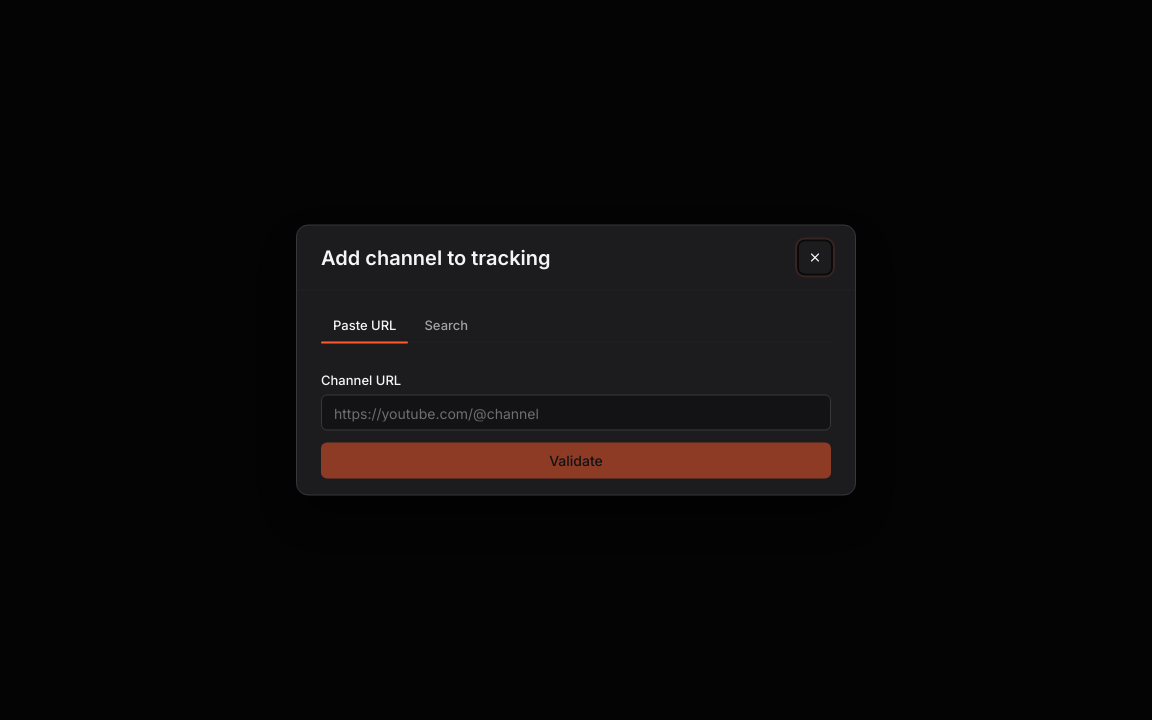
Test case: AddChannelModal › search tab: submits a query and lists results
Step 1. Click the tab "Search" → click(446, 324), box 412,306 -> 480,342
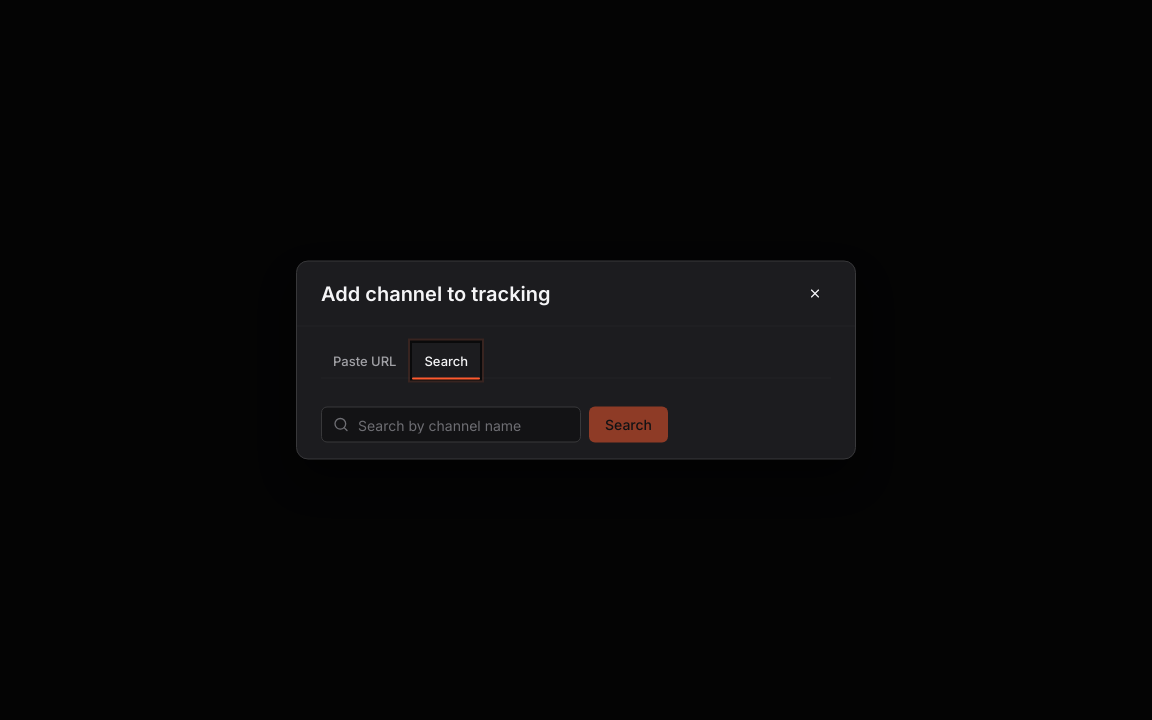
Step 2. Type "tiny" into the search field named "Search channels" → (451, 424), box 321,406 -> 581,442
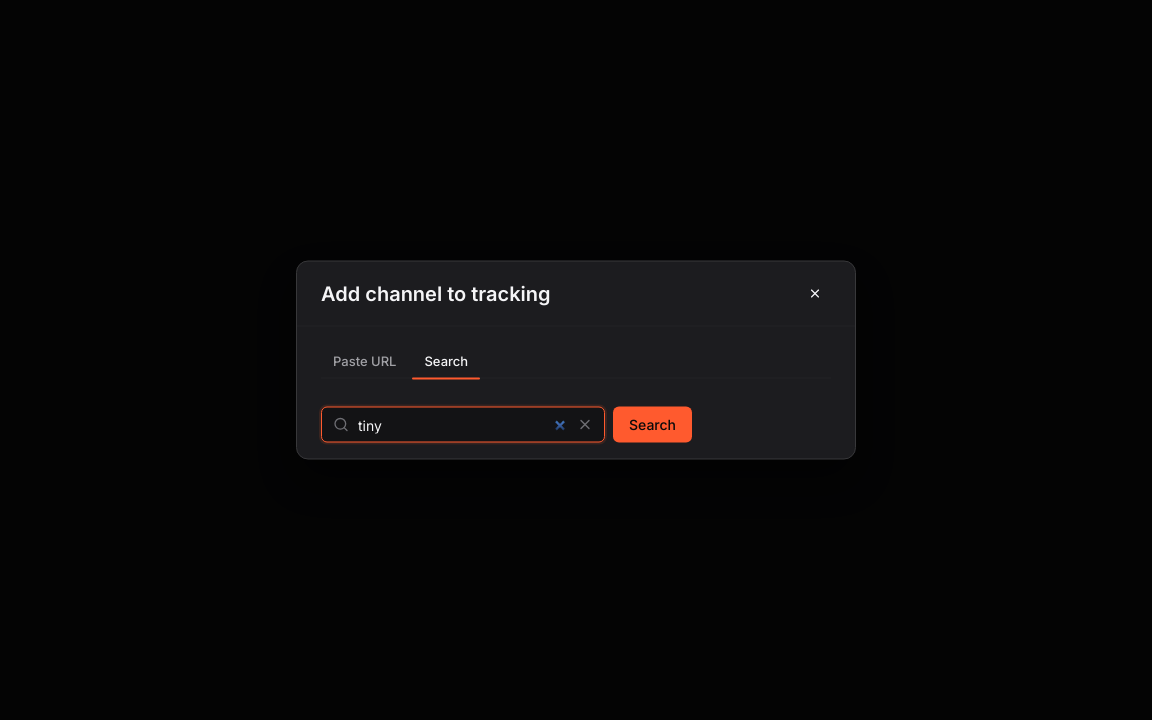
Step 3. Click the button "Search" → click(652, 424), box 613,406 -> 692,442
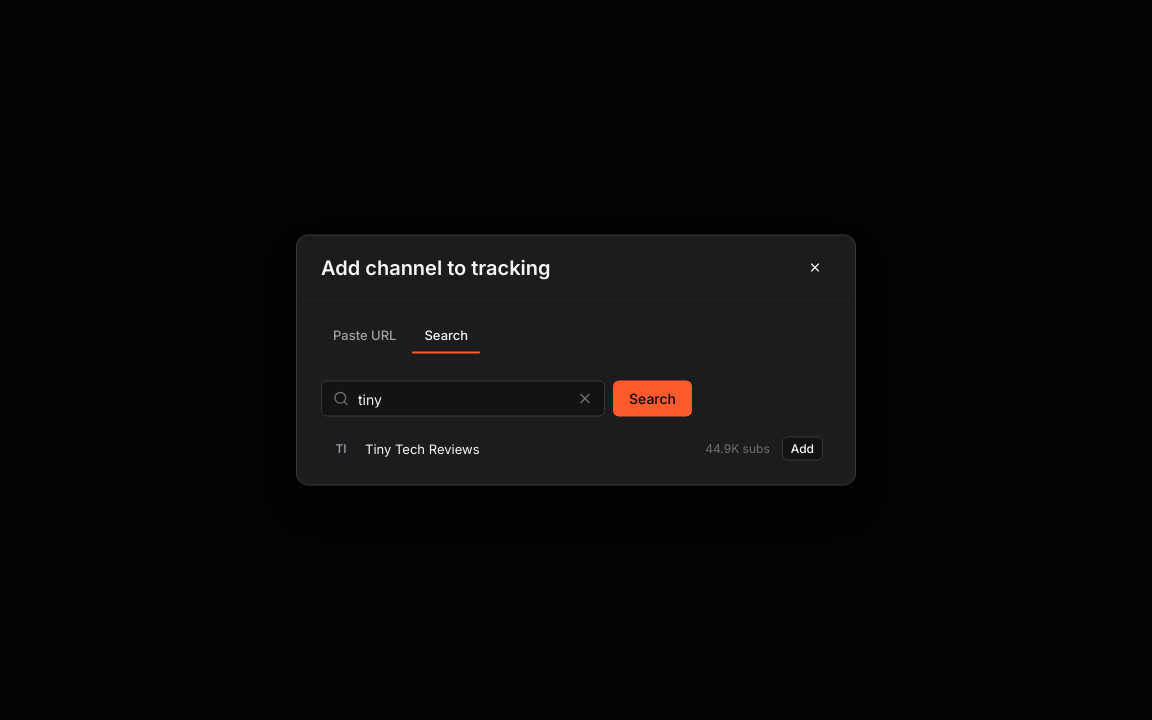
Result: the text "Tiny Tech Reviews" is shown at 365,440 -> 480,456
